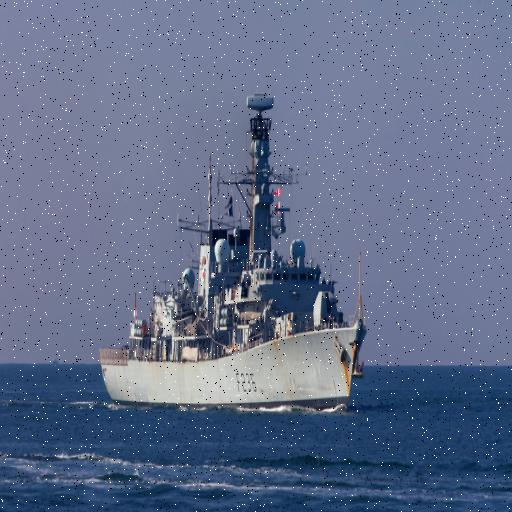Fragata: (100, 88, 373, 418)
